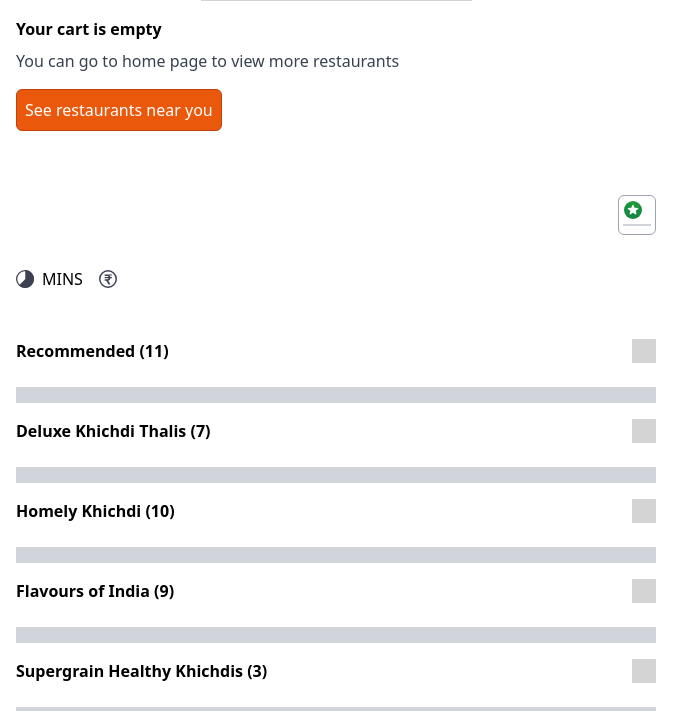
Test: should load restaurant menu component with recommended accordion
(page scrolled)
Click the text "Recommended (11)" at (92, 351), box [16,339,169,363]
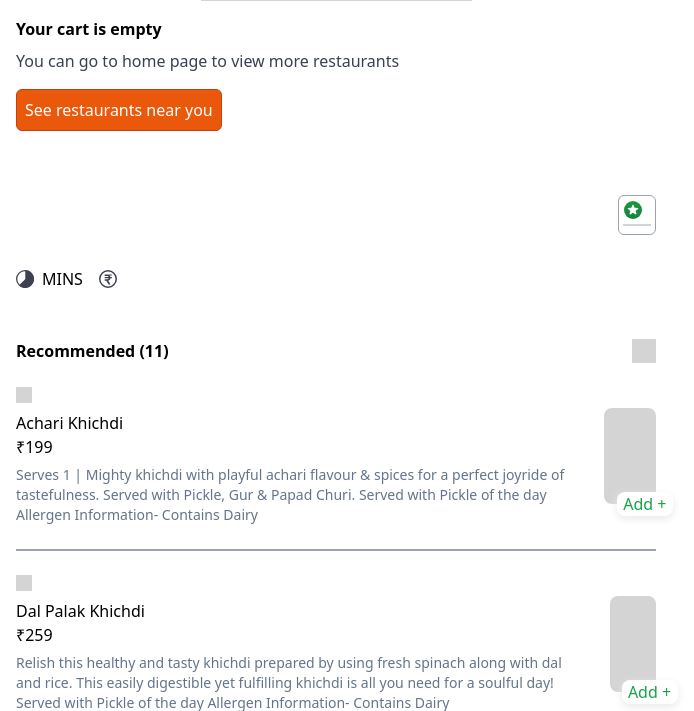
Now the number of elements with test id "items" is 11
